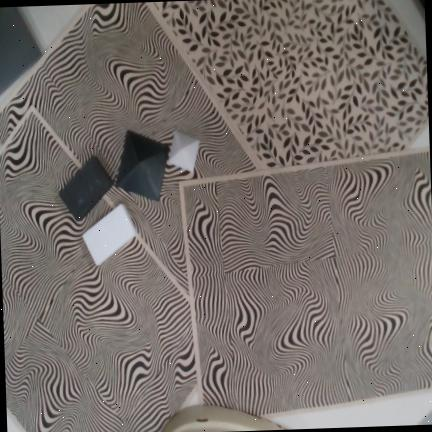Paralelepipedo: (58, 156, 113, 223), (82, 204, 136, 267)
Piramide: (116, 130, 170, 201), (169, 130, 200, 172)
